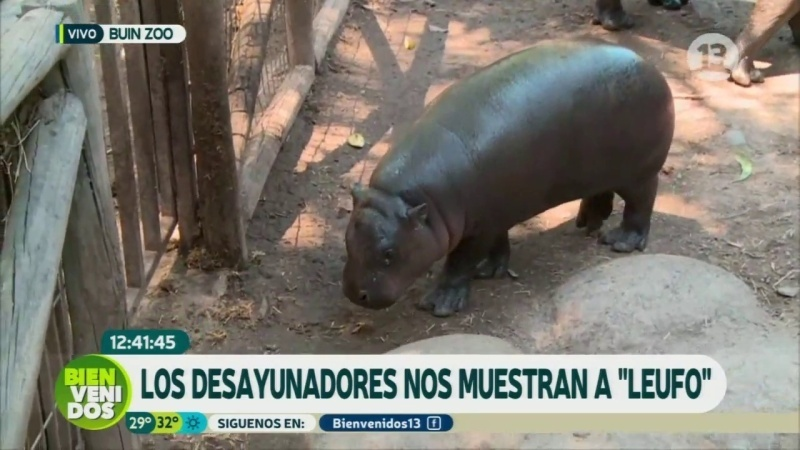hipopotamo: (332, 31, 688, 330)
